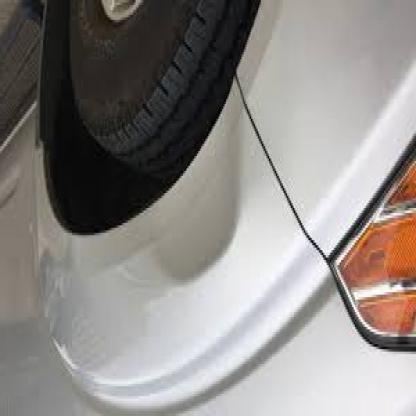dent: (155, 180, 252, 290)
